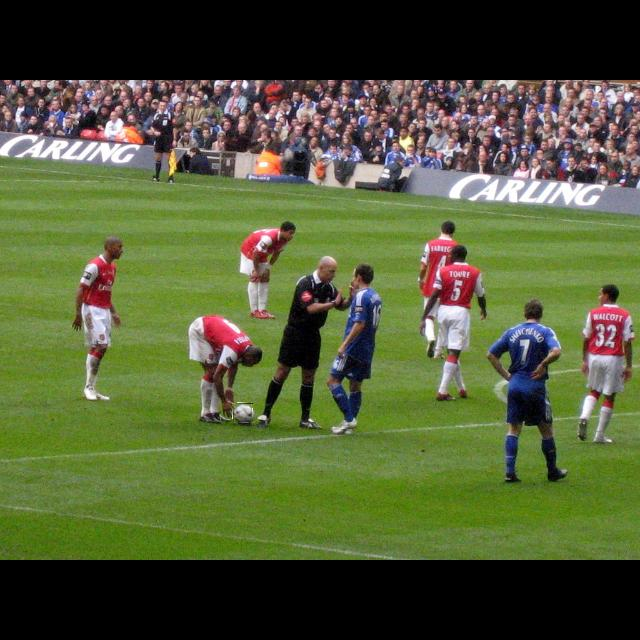Football: (233, 403, 253, 423)
